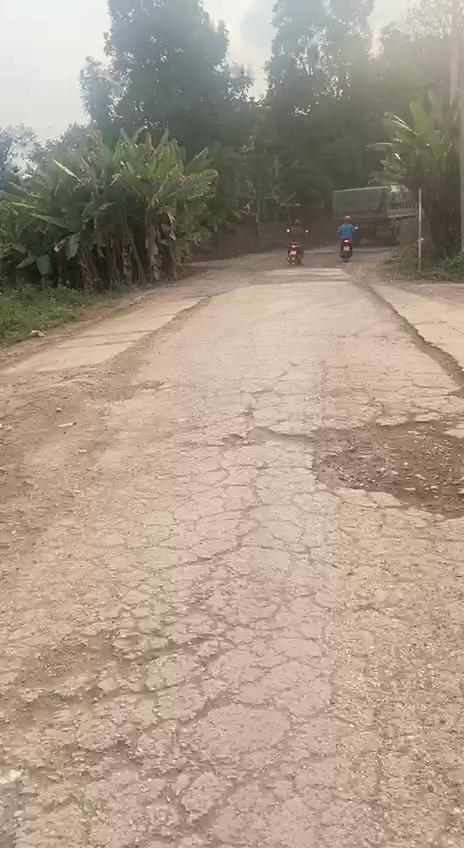pothole: (0, 619, 186, 720), (298, 412, 464, 520)
